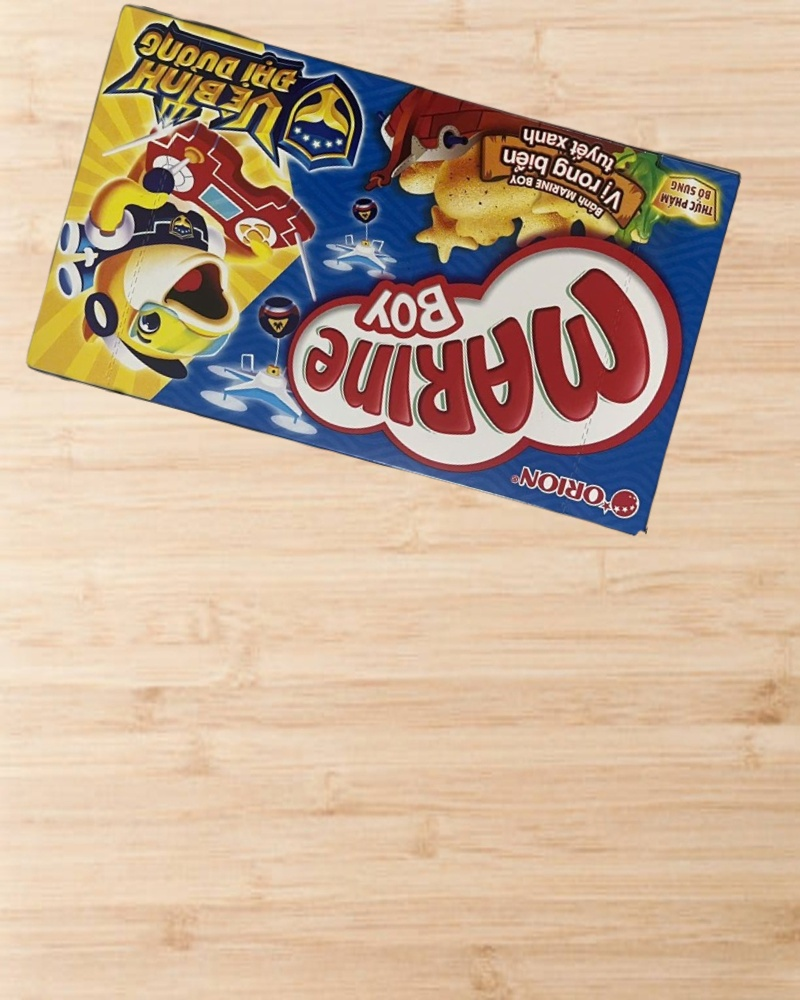Marine: (21, 3, 744, 539)
